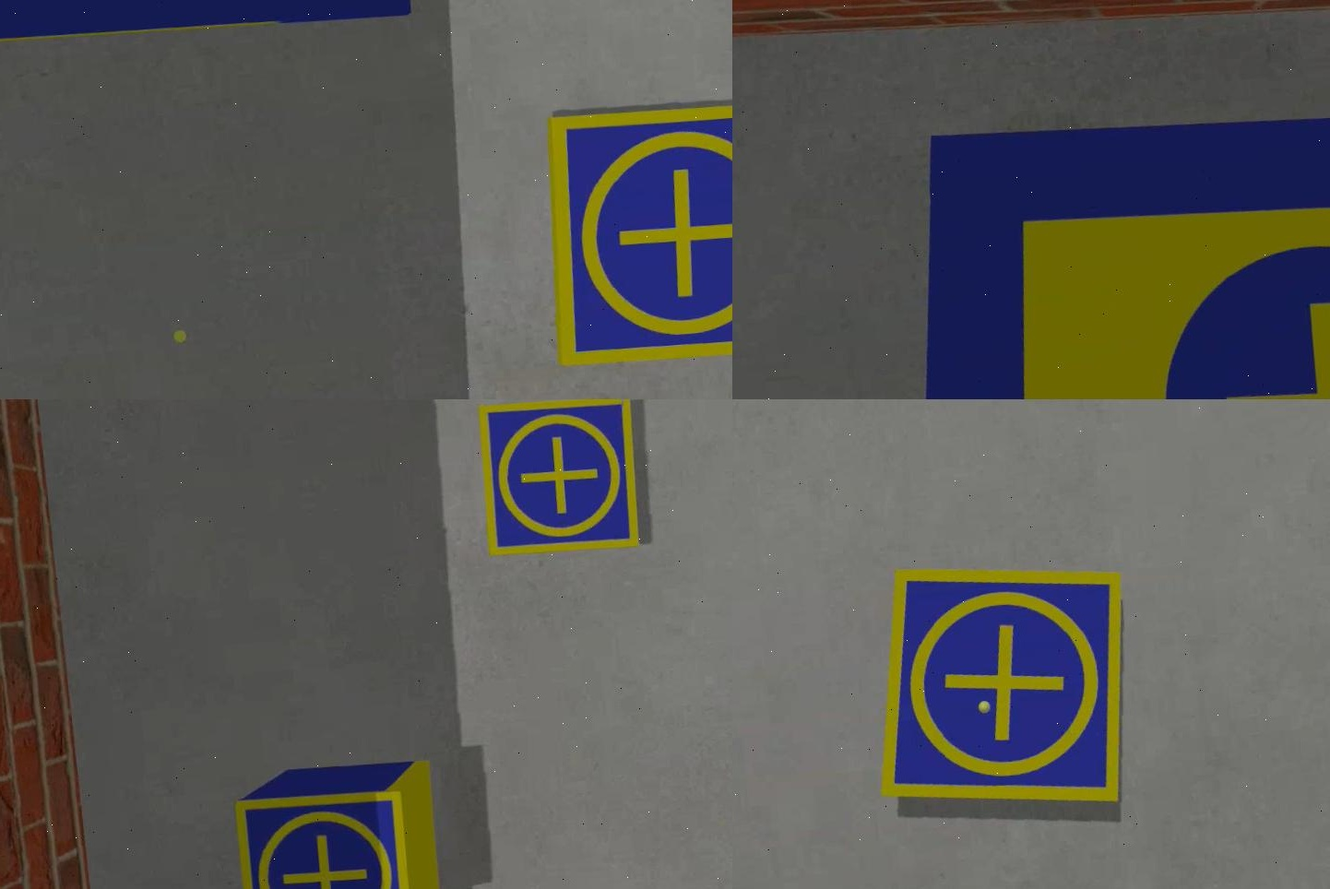large_base: (891, 65, 1328, 400)
small_base: (854, 551, 1141, 831), (540, 89, 731, 373), (472, 400, 645, 558), (235, 784, 420, 889)
